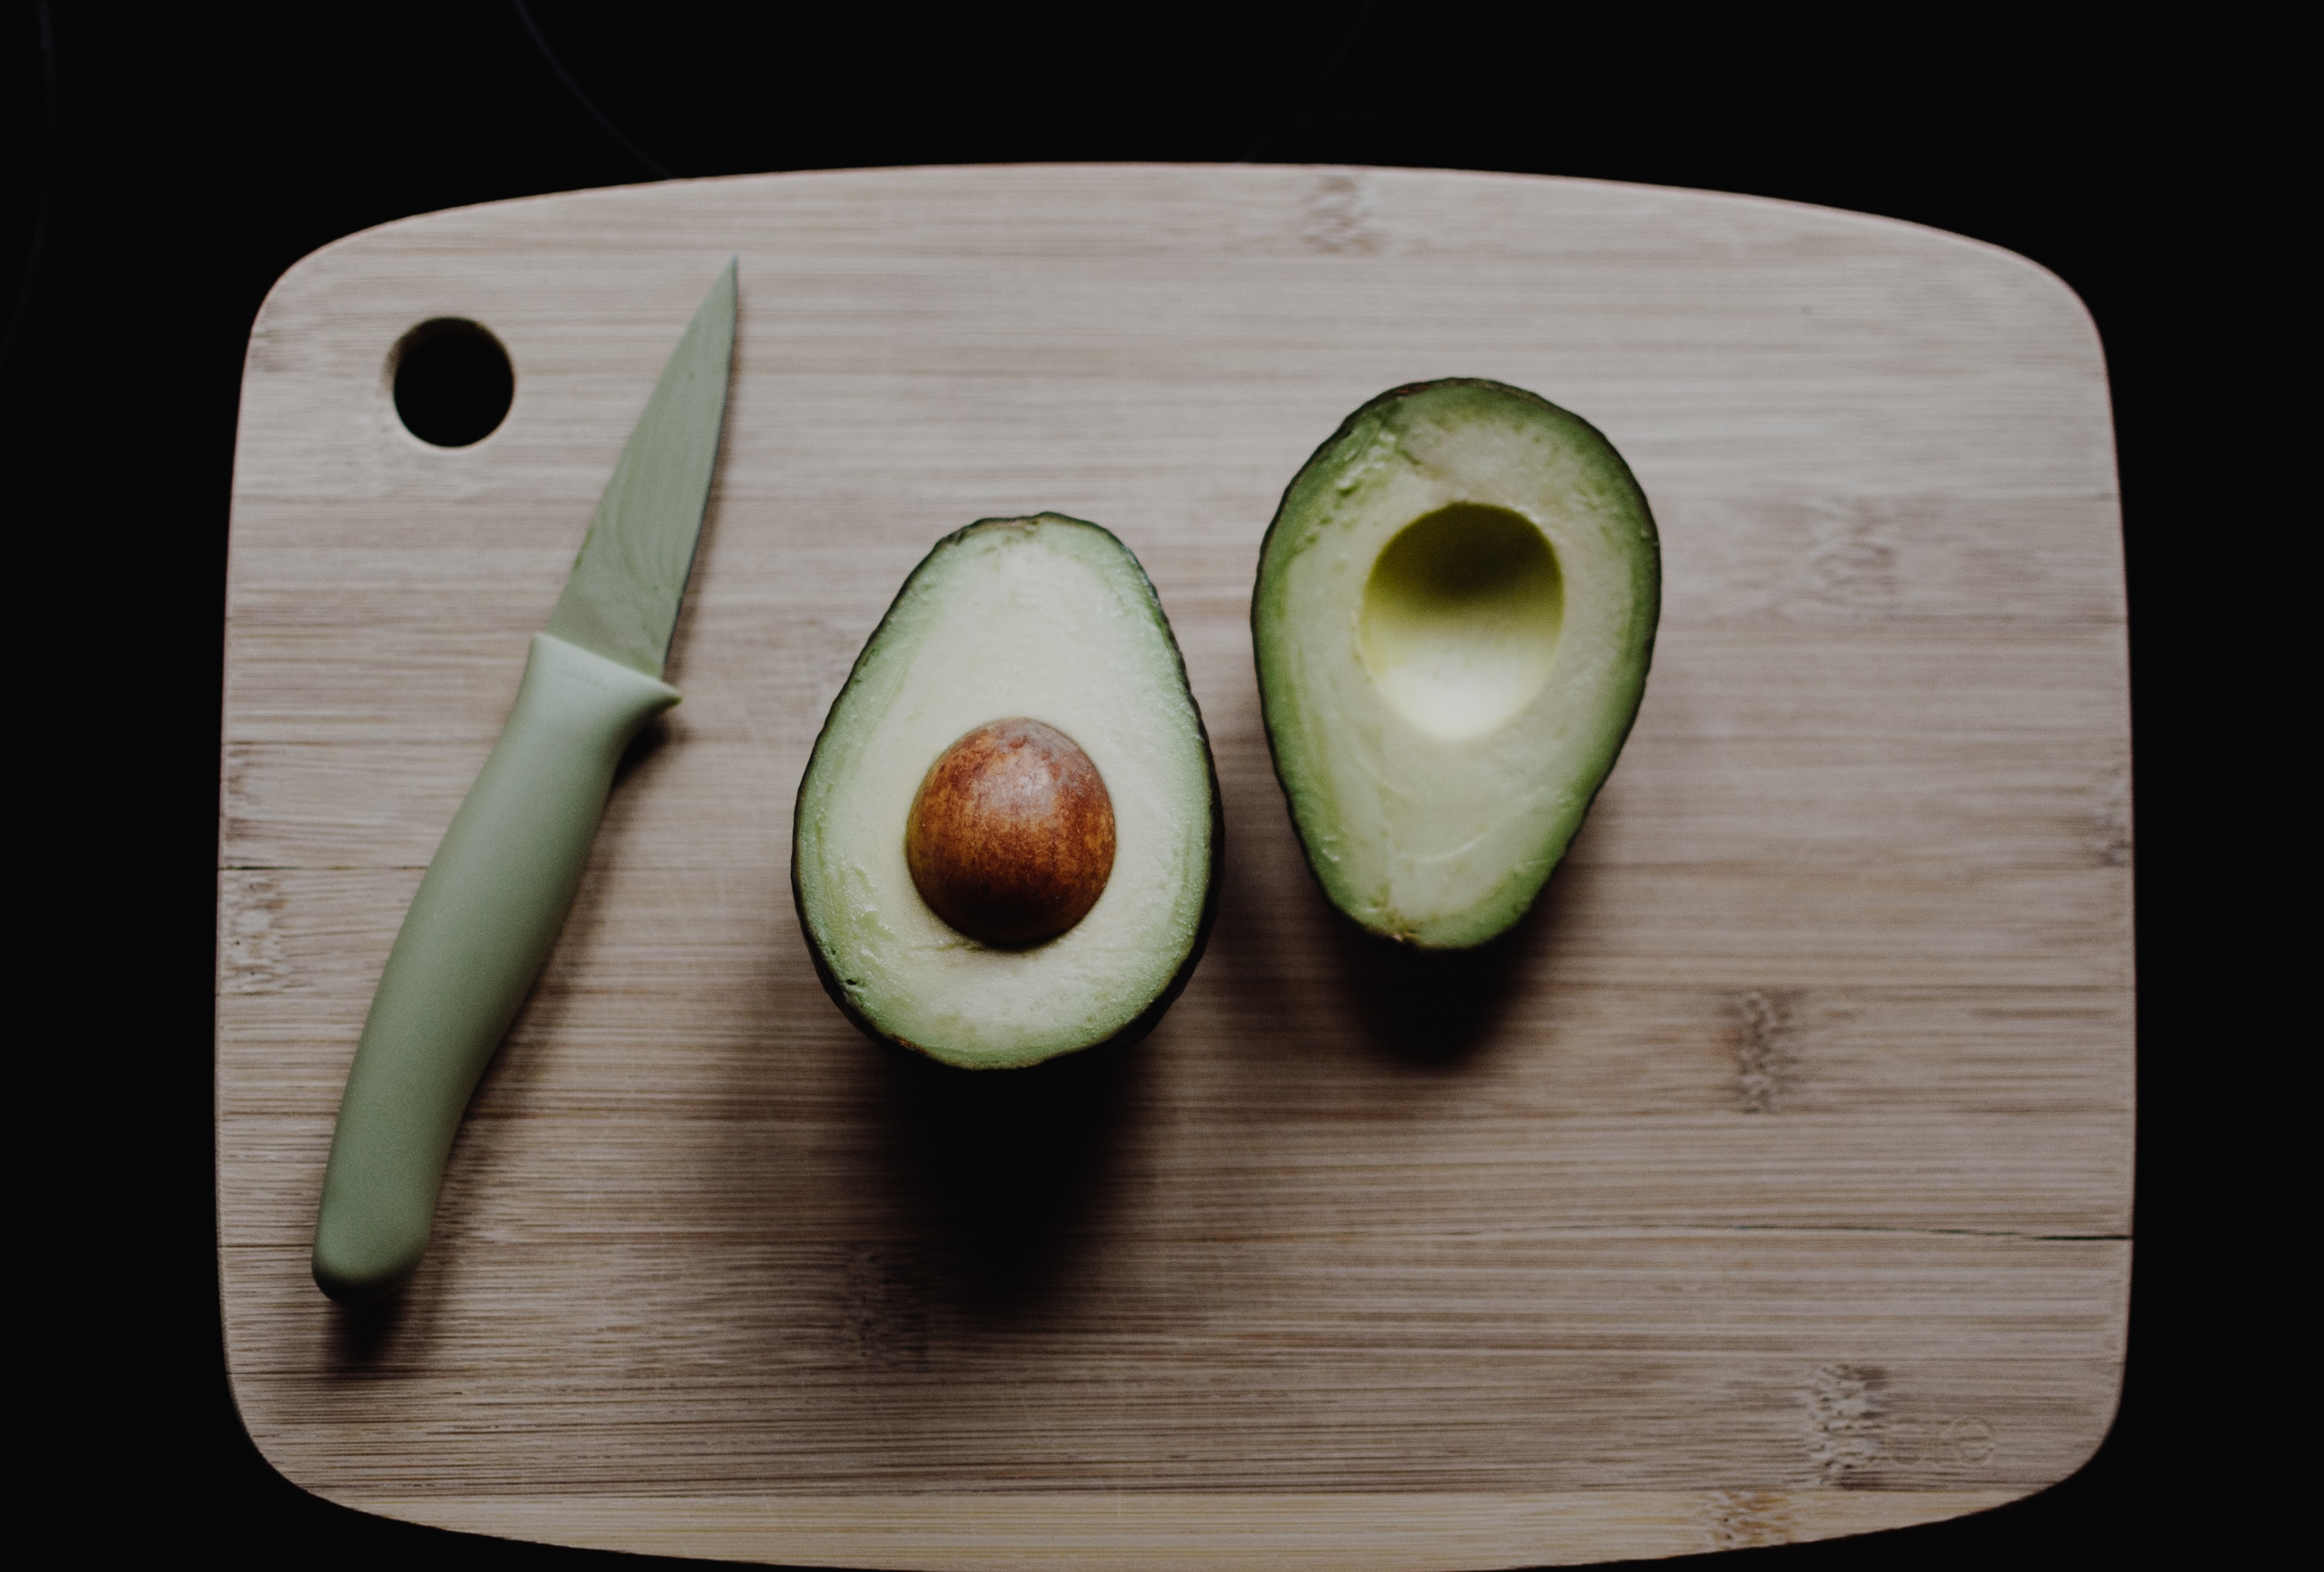knife: (249, 246, 789, 1386)
